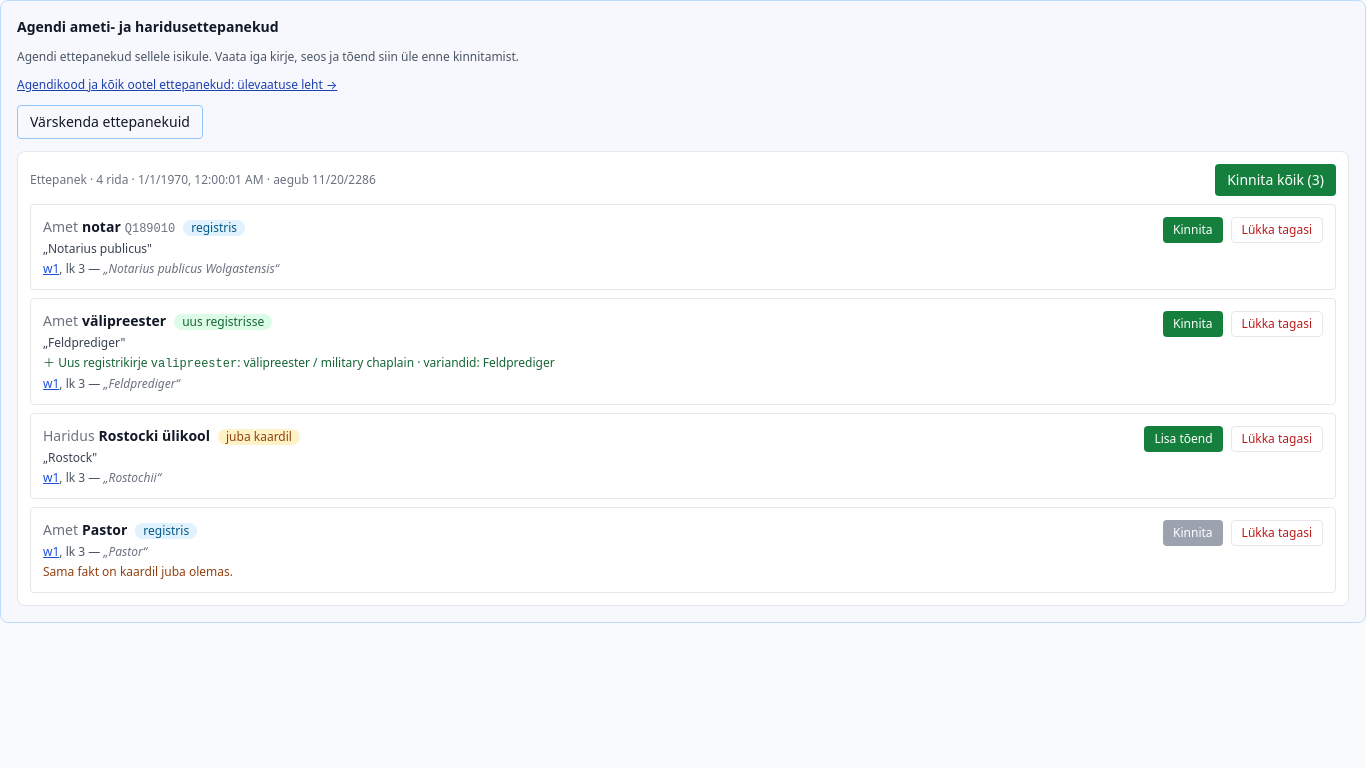
Test: agendi ettepanekute ülevaatus › loodud registrikirjete teade
Click the button "Kinnita" in the row of "uus registrisse": (1193, 324) [1163, 311, 1223, 337]
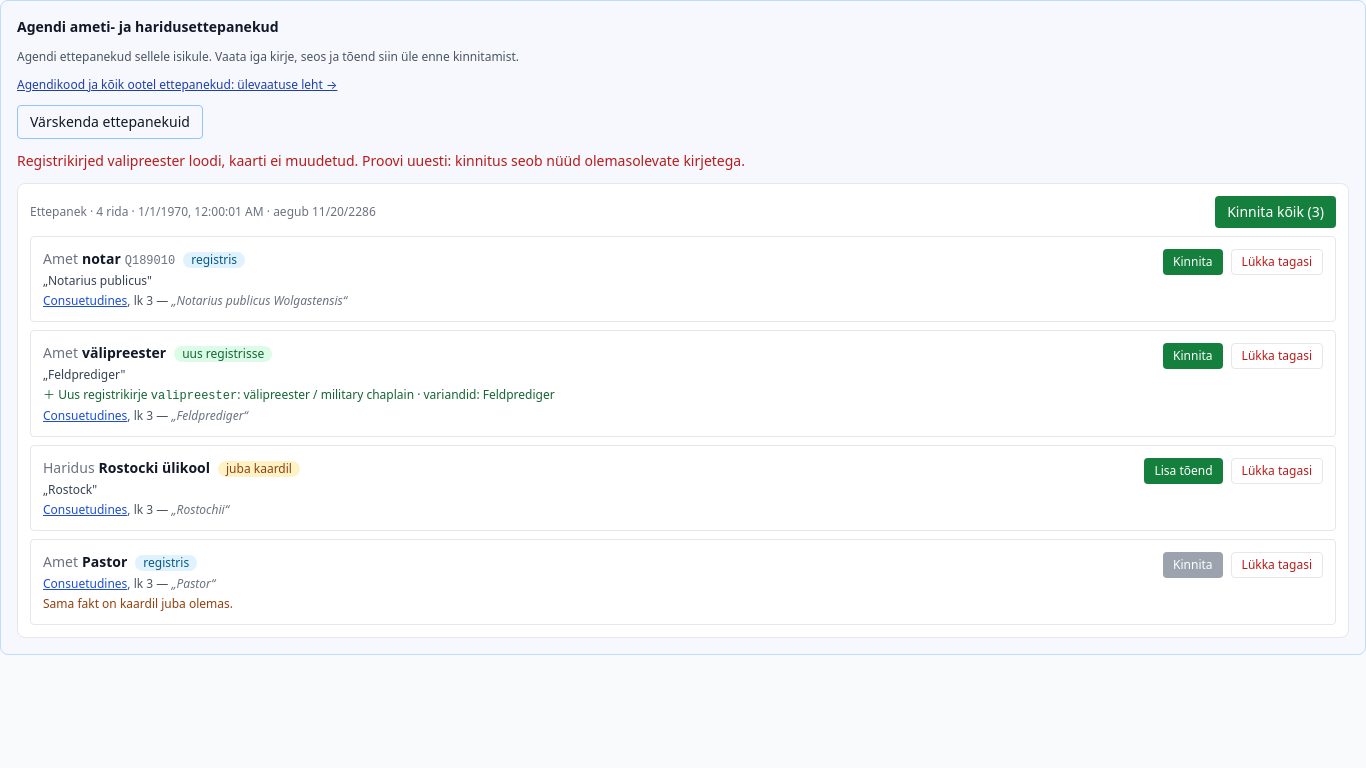
Now the text "Registrikirjed valipreester loodi, kaarti ei muudetud" is shown, box [17, 151, 745, 170]
